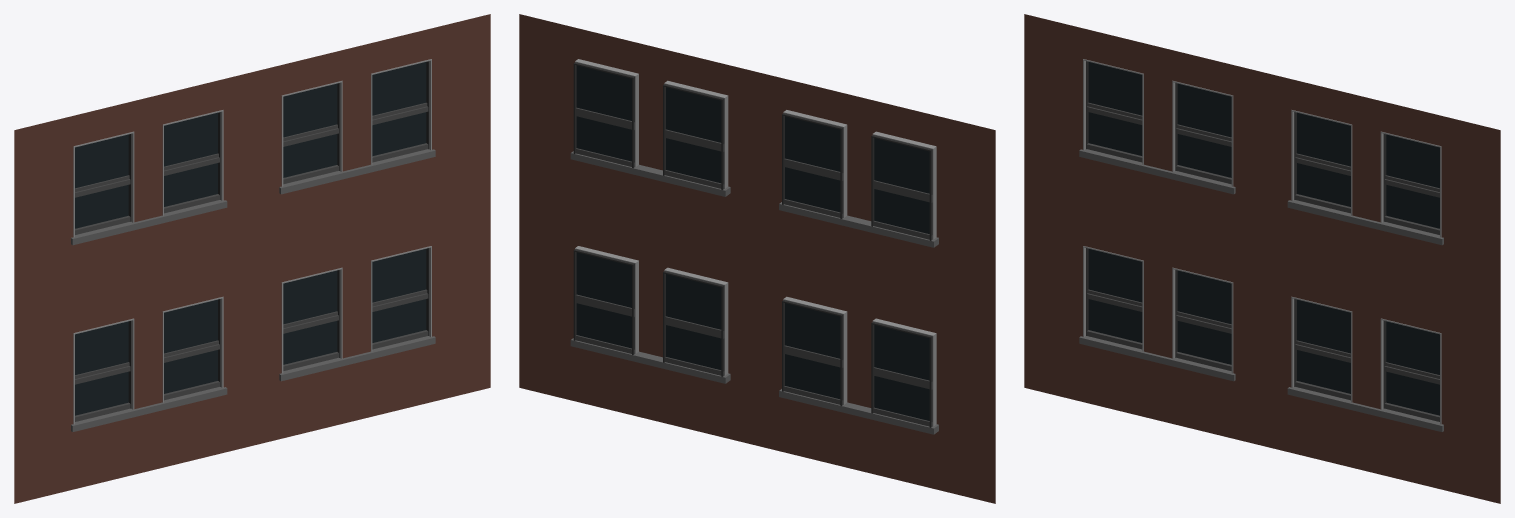
The model's file is Building5_Side1.fbx.
3 views of the same model, side by side, from view 1: azimuth 30°, elevation 25°; view 2: azimuth 150°, elevation 25°; view 3: azimuth 330°, elevation 25° (orthographic).
Visible parts, largest first — view 1: Cube.003; view 2: Cube.003; view 3: Cube.003.
Part boxes in pixels (x1,y1,x2,y2): Cube.003: (14,14,490,503); Cube.003: (519,14,995,503); Cube.003: (1024,14,1500,503).
Bounding box in the file's own units: 1600 × 1200 × 40.
